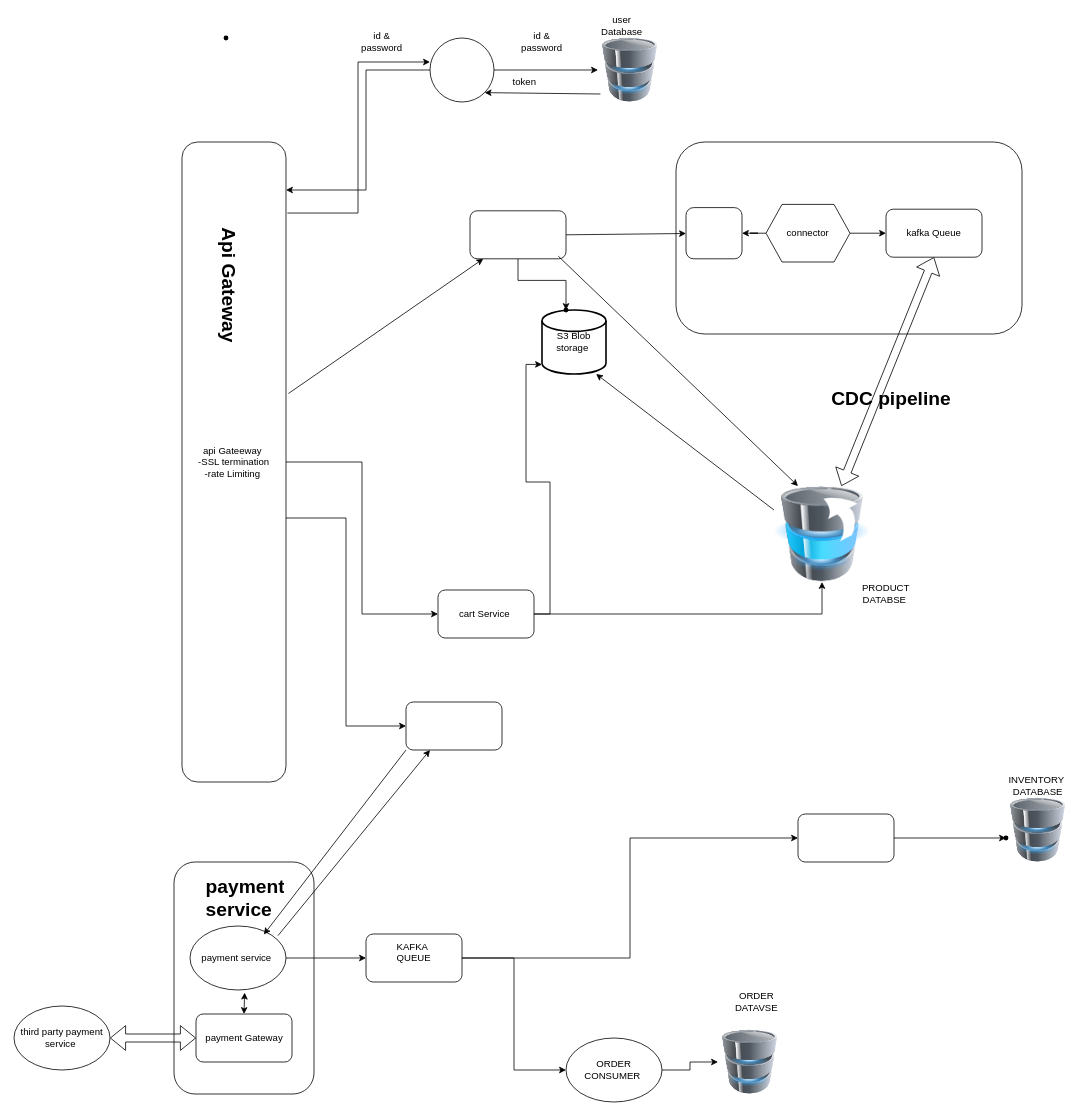
Image size: 1084x1116. Some labels were removed from this diagram. Each missing label, with the centre of its shape:
checkOut service: the point at 453,725
elastic search: the point at 713,233
INVENTORY SERVICE CONSUMER: the point at 845,837
login/signup service: the point at 461,69
product service: the point at 517,234
